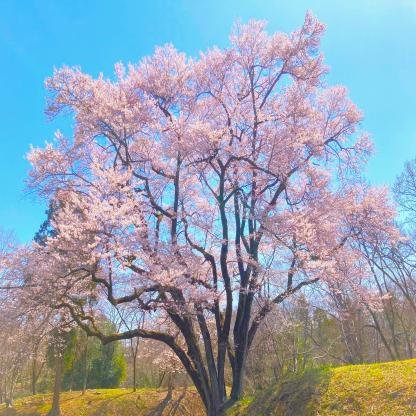EdohiganSakura: (0, 10, 412, 381)
